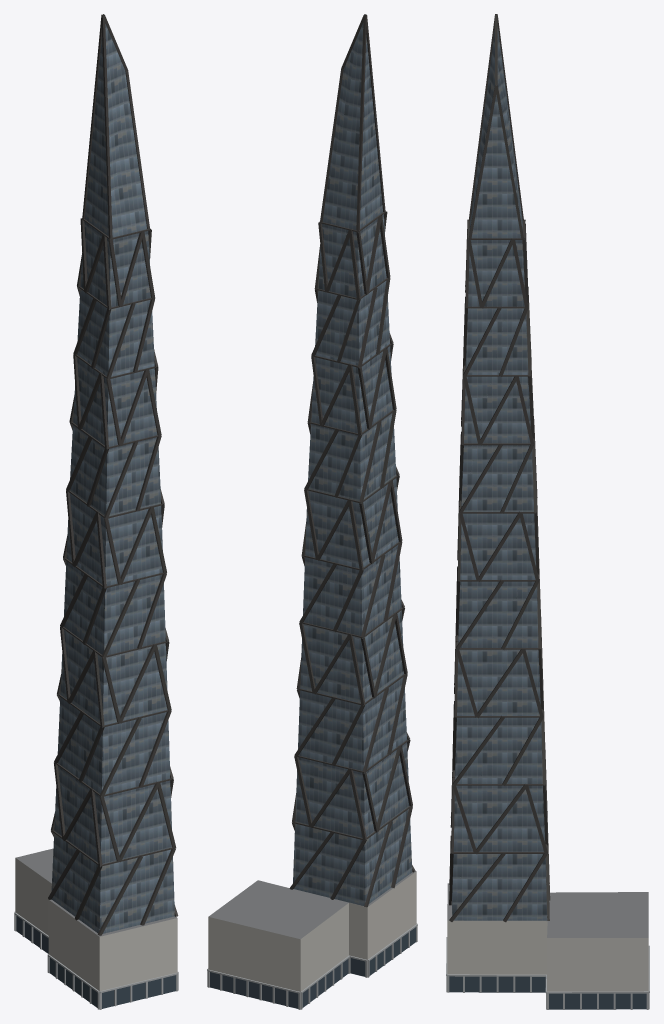
The model's file is moma_53w53.glb.
3 views of the same model, side by side, from view 1: azimuth 30°, elevation 25°; view 2: azimuth 150°, elevation 25°; view 3: azimuth 270°, elevation 25° (orthographic). The views are drawn at different scales.
Visible parts, largest first — view 1: moma_53w53; view 2: moma_53w53; view 3: moma_53w53.
Part boxes in pixels (x1=…): moma_53w53: x1=14, y1=14, x2=178, y2=1009; moma_53w53: x1=207, y1=14, x2=417, y2=1009; moma_53w53: x1=446, y1=14, x2=649, y2=1009.
Bounding box in the file's own units: 40.1 × 320 × 61.98.
2 materials, 2 textured.
